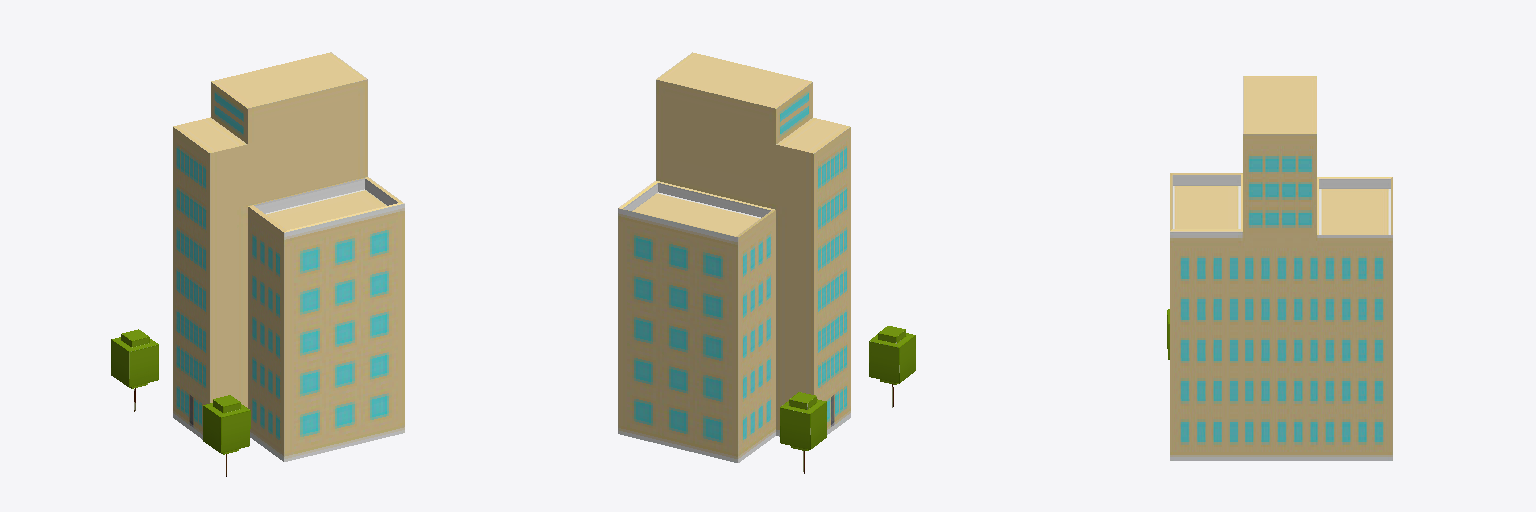
3 views of the same model, side by side, from view 1: azimuth 30°, elevation 25°; view 2: azimuth 150°, elevation 25°; view 3: azimuth 270°, elevation 25° (orthographic).
Parts seen in each view (by area): view 1: living_education_1lvl_Mesh.4854, Tree_3_499_2.017_Mesh.270, Tree_3_499_2.018_Mesh.271; view 2: living_education_1lvl_Mesh.4854, Tree_3_499_2.017_Mesh.270, Tree_3_499_2.018_Mesh.271; view 3: living_education_1lvl_Mesh.4854.
Part boxes in pixels (bbox=[...]): living_education_1lvl_Mesh.4854: bbox=[173, 52, 404, 461]; Tree_3_499_2.017_Mesh.270: bbox=[111, 329, 158, 411]; Tree_3_499_2.018_Mesh.271: bbox=[203, 395, 250, 476]; living_education_1lvl_Mesh.4854: bbox=[618, 52, 850, 462]; Tree_3_499_2.017_Mesh.270: bbox=[780, 392, 826, 473]; Tree_3_499_2.018_Mesh.271: bbox=[869, 326, 915, 407]; living_education_1lvl_Mesh.4854: bbox=[1170, 76, 1392, 460].
Size of the model in its own units: 1.47 by 2.5 by 1.53.
Materials: 2 (2 with a texture image).